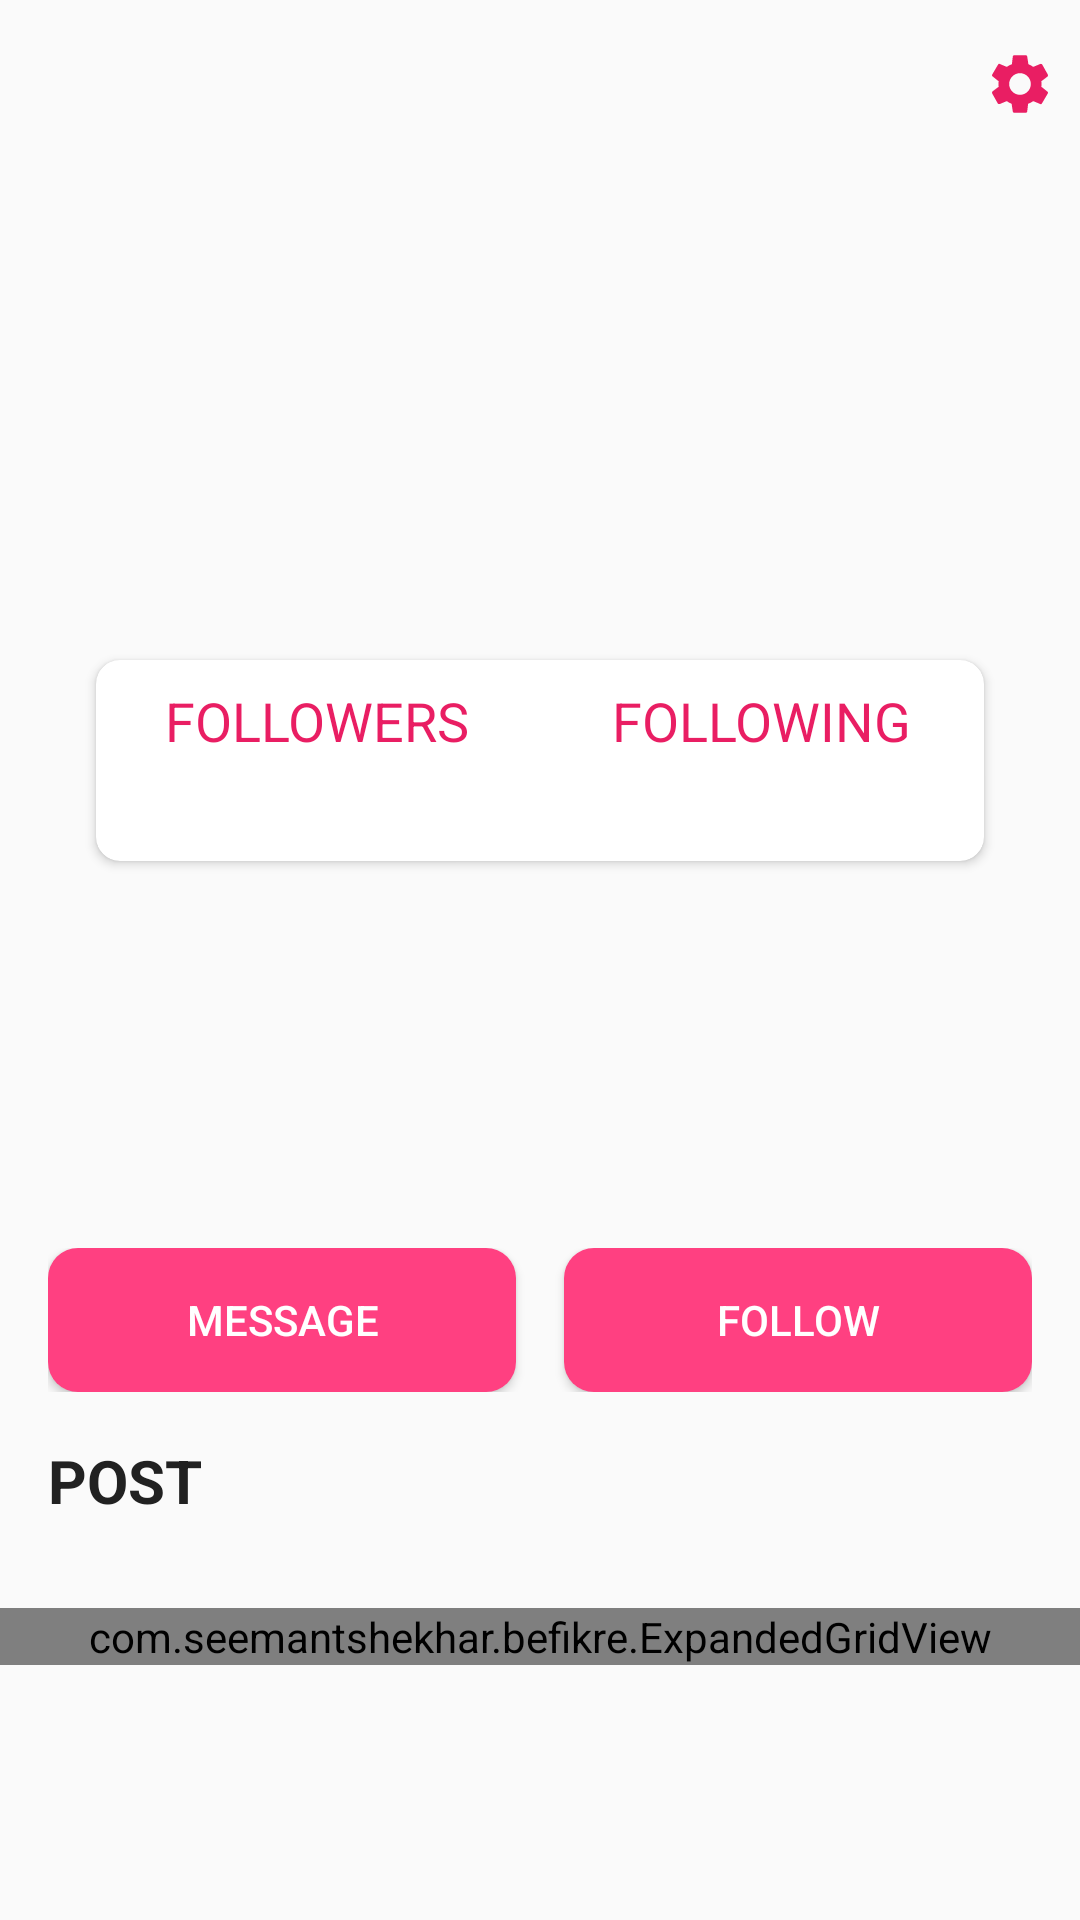

Locate icon controls on the screen. Image size 1080x1920, boxes as (x1, y1, x2, y2).
settings: (992, 55, 1048, 113)
